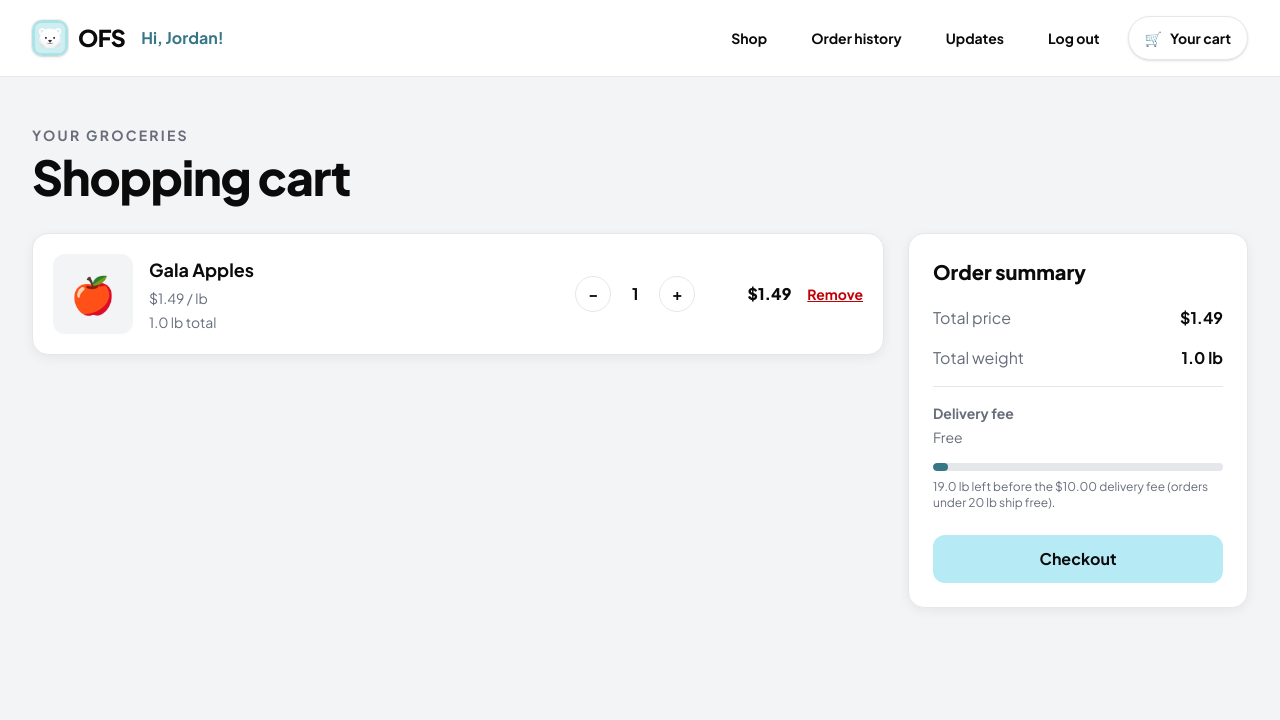
Test: cart totals › removes the last unit with the minus button, leaving an empty cart
Expected: the heading "Gala Apples" is shown, left=149, top=258, right=254, bottom=281
Click the button "−" at (593, 294), box left=575, top=276, right=611, bottom=312
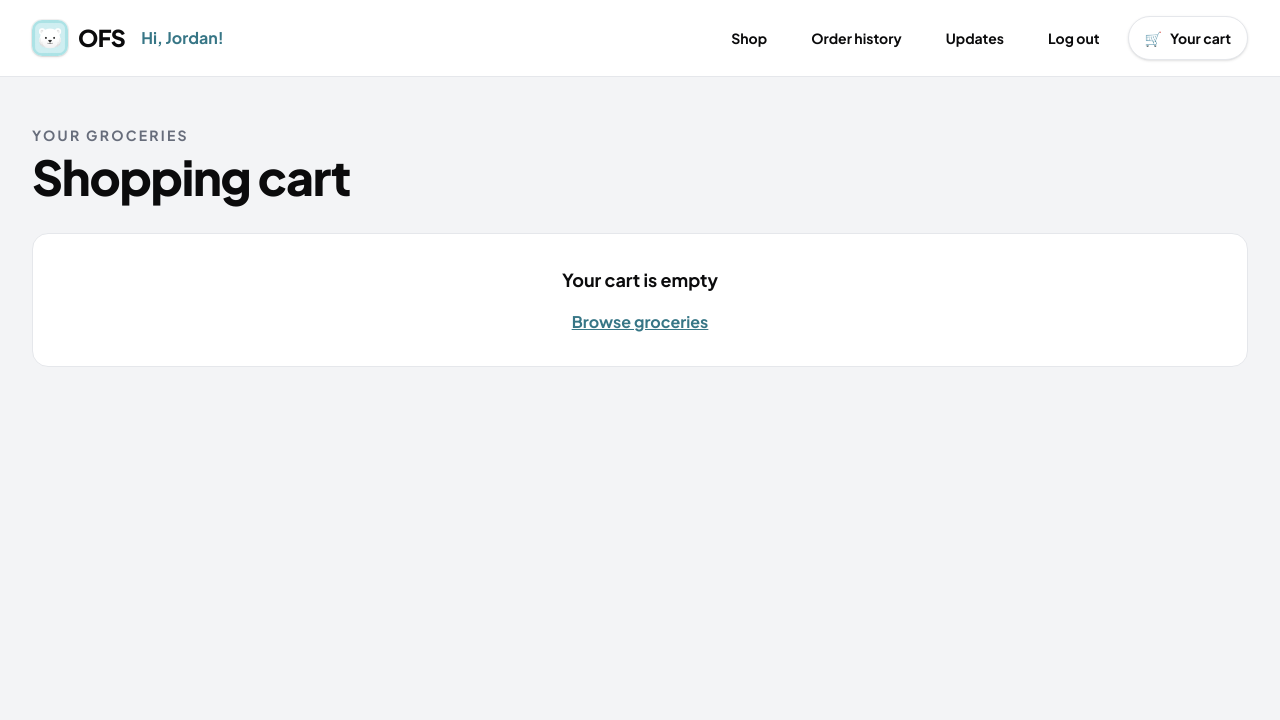
Expected: the text "Your cart is empty" is shown, left=562, top=268, right=718, bottom=291
